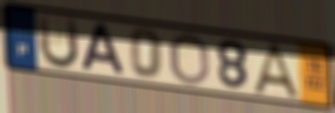0: (126, 26, 165, 82)
8: (216, 38, 250, 91)
A: (251, 42, 305, 103), (79, 22, 128, 77)
O: (168, 32, 211, 88)
U: (35, 13, 81, 71)
